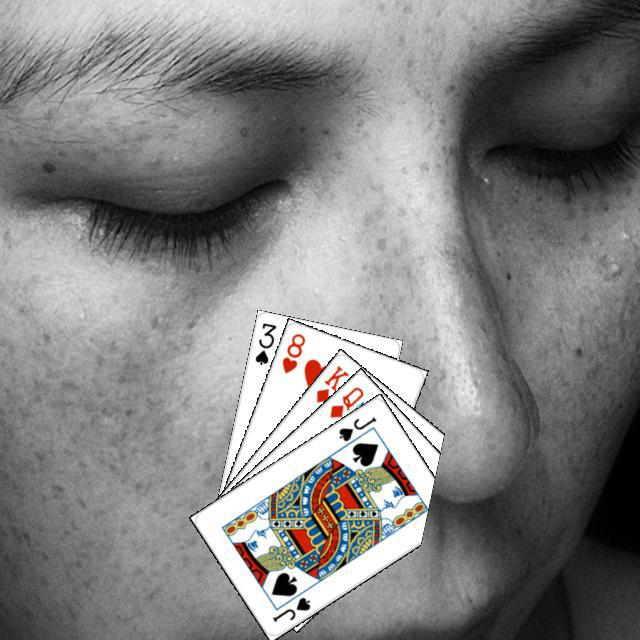3s: (250, 318, 278, 367)
8h: (277, 328, 307, 375)
Js: (267, 592, 312, 624), (334, 412, 378, 443)
Kd: (311, 360, 351, 404)
Qd: (324, 382, 365, 420)
